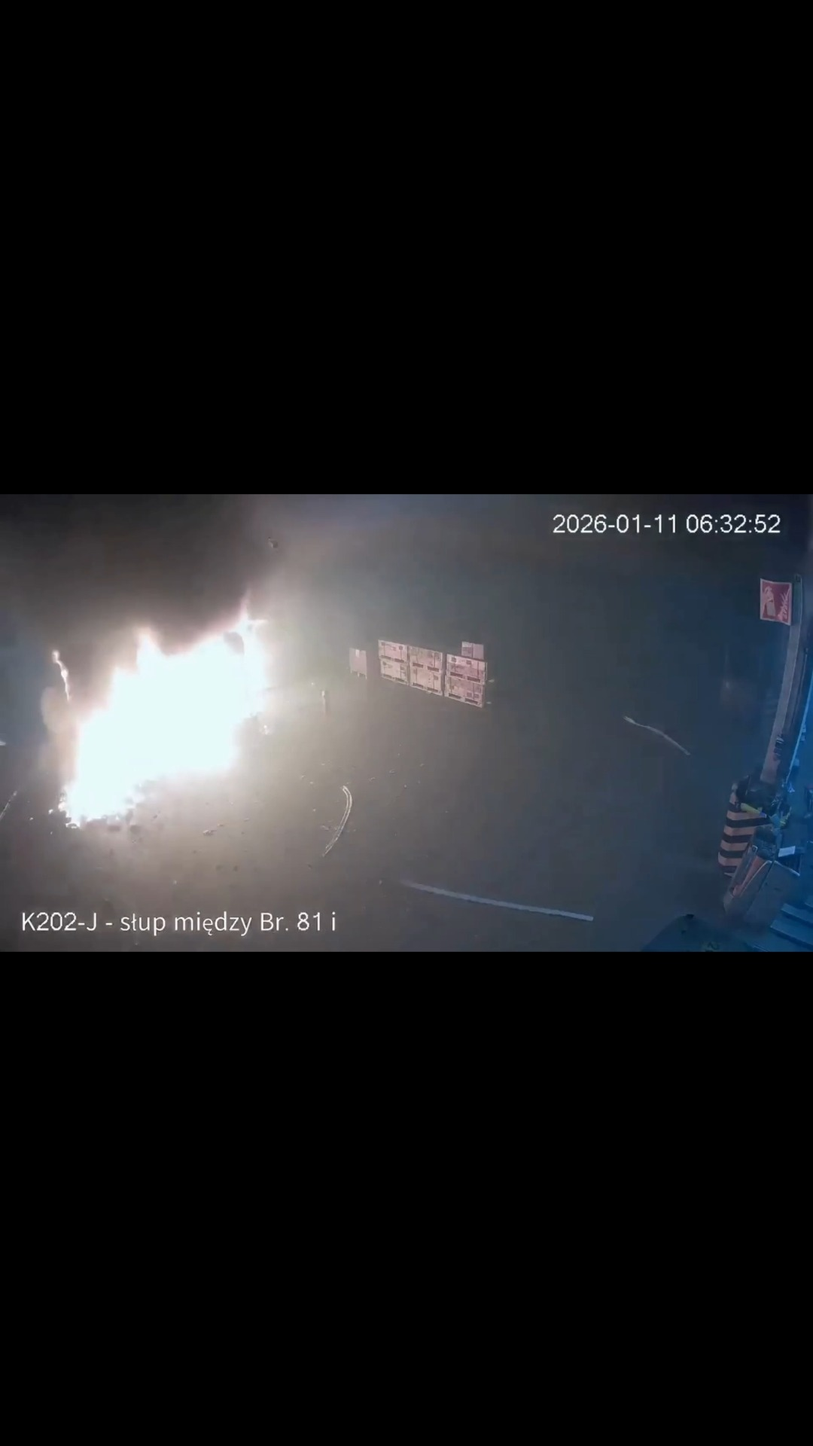fire: (55, 593, 279, 831)
smoke: (4, 495, 382, 696)
